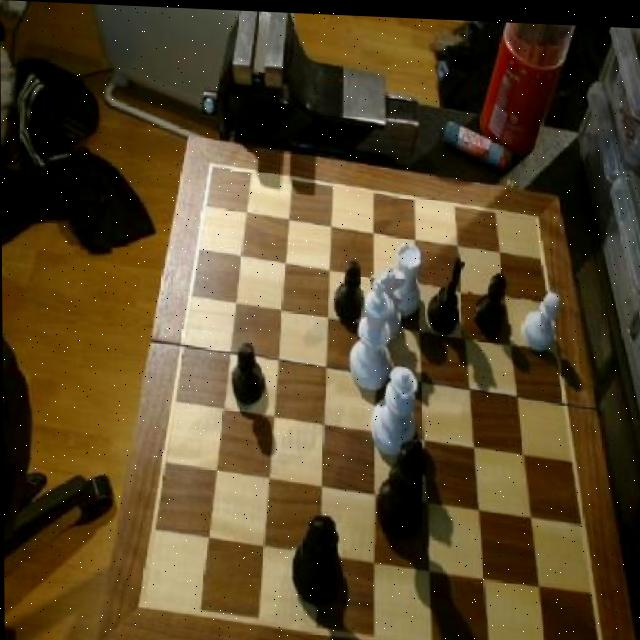black-bishop: (371, 431, 429, 542)
black-king: (425, 247, 470, 334)
black-knight: (470, 267, 511, 334), (229, 339, 265, 410), (331, 256, 367, 324)
black-pawn: (290, 508, 343, 609)
white-bishop: (345, 270, 401, 394)
white-knight: (519, 284, 562, 351)
white-pawn: (365, 359, 418, 455)
white-queen: (388, 237, 423, 315)
